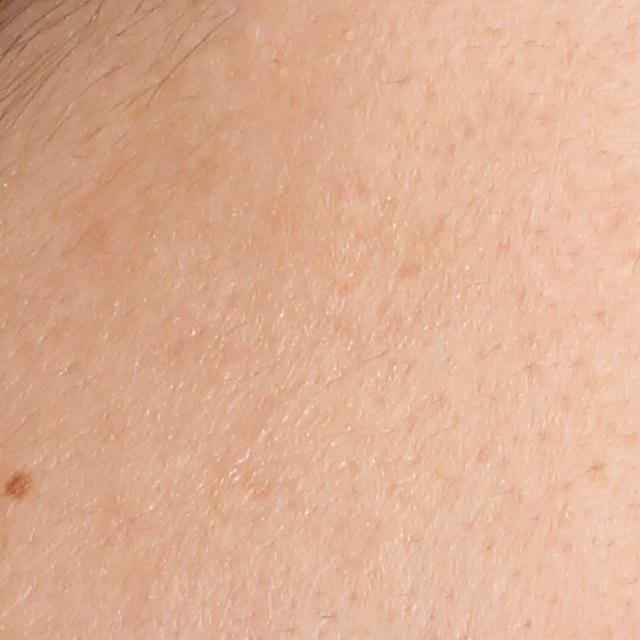nevus: (2, 473, 33, 501)
